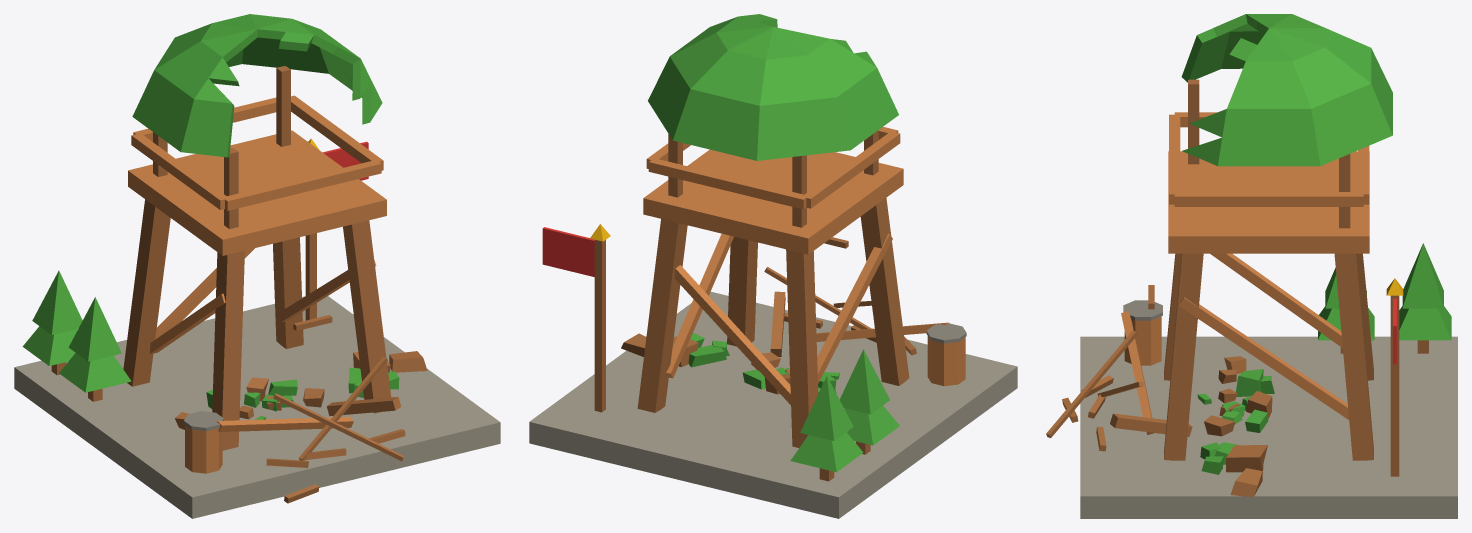
The model's file is defense_tower_t1_v3_dmg1.glb.
3 renders of one model, left to right at view 1: azimuth 30°, elevation 25°; view 2: azimuth 150°, elevation 25°; view 3: azimuth 270°, elevation 25°, orthographic. The views are drawn at different scales.
Parts seen in each view (by area): view 1: defense_tower_t1_v3_dmg1; view 2: defense_tower_t1_v3_dmg1; view 3: defense_tower_t1_v3_dmg1.
Boxes of the visible parts, x1=… form: defense_tower_t1_v3_dmg1: x1=14, y1=14, x2=500, y2=518; defense_tower_t1_v3_dmg1: x1=529, y1=14, x2=1017, y2=518; defense_tower_t1_v3_dmg1: x1=1046, y1=14, x2=1457, y2=518.
Bounding box in the file's own units: 0.63 × 0.72 × 0.6543.
Materials: 1 (1 with a texture image).
